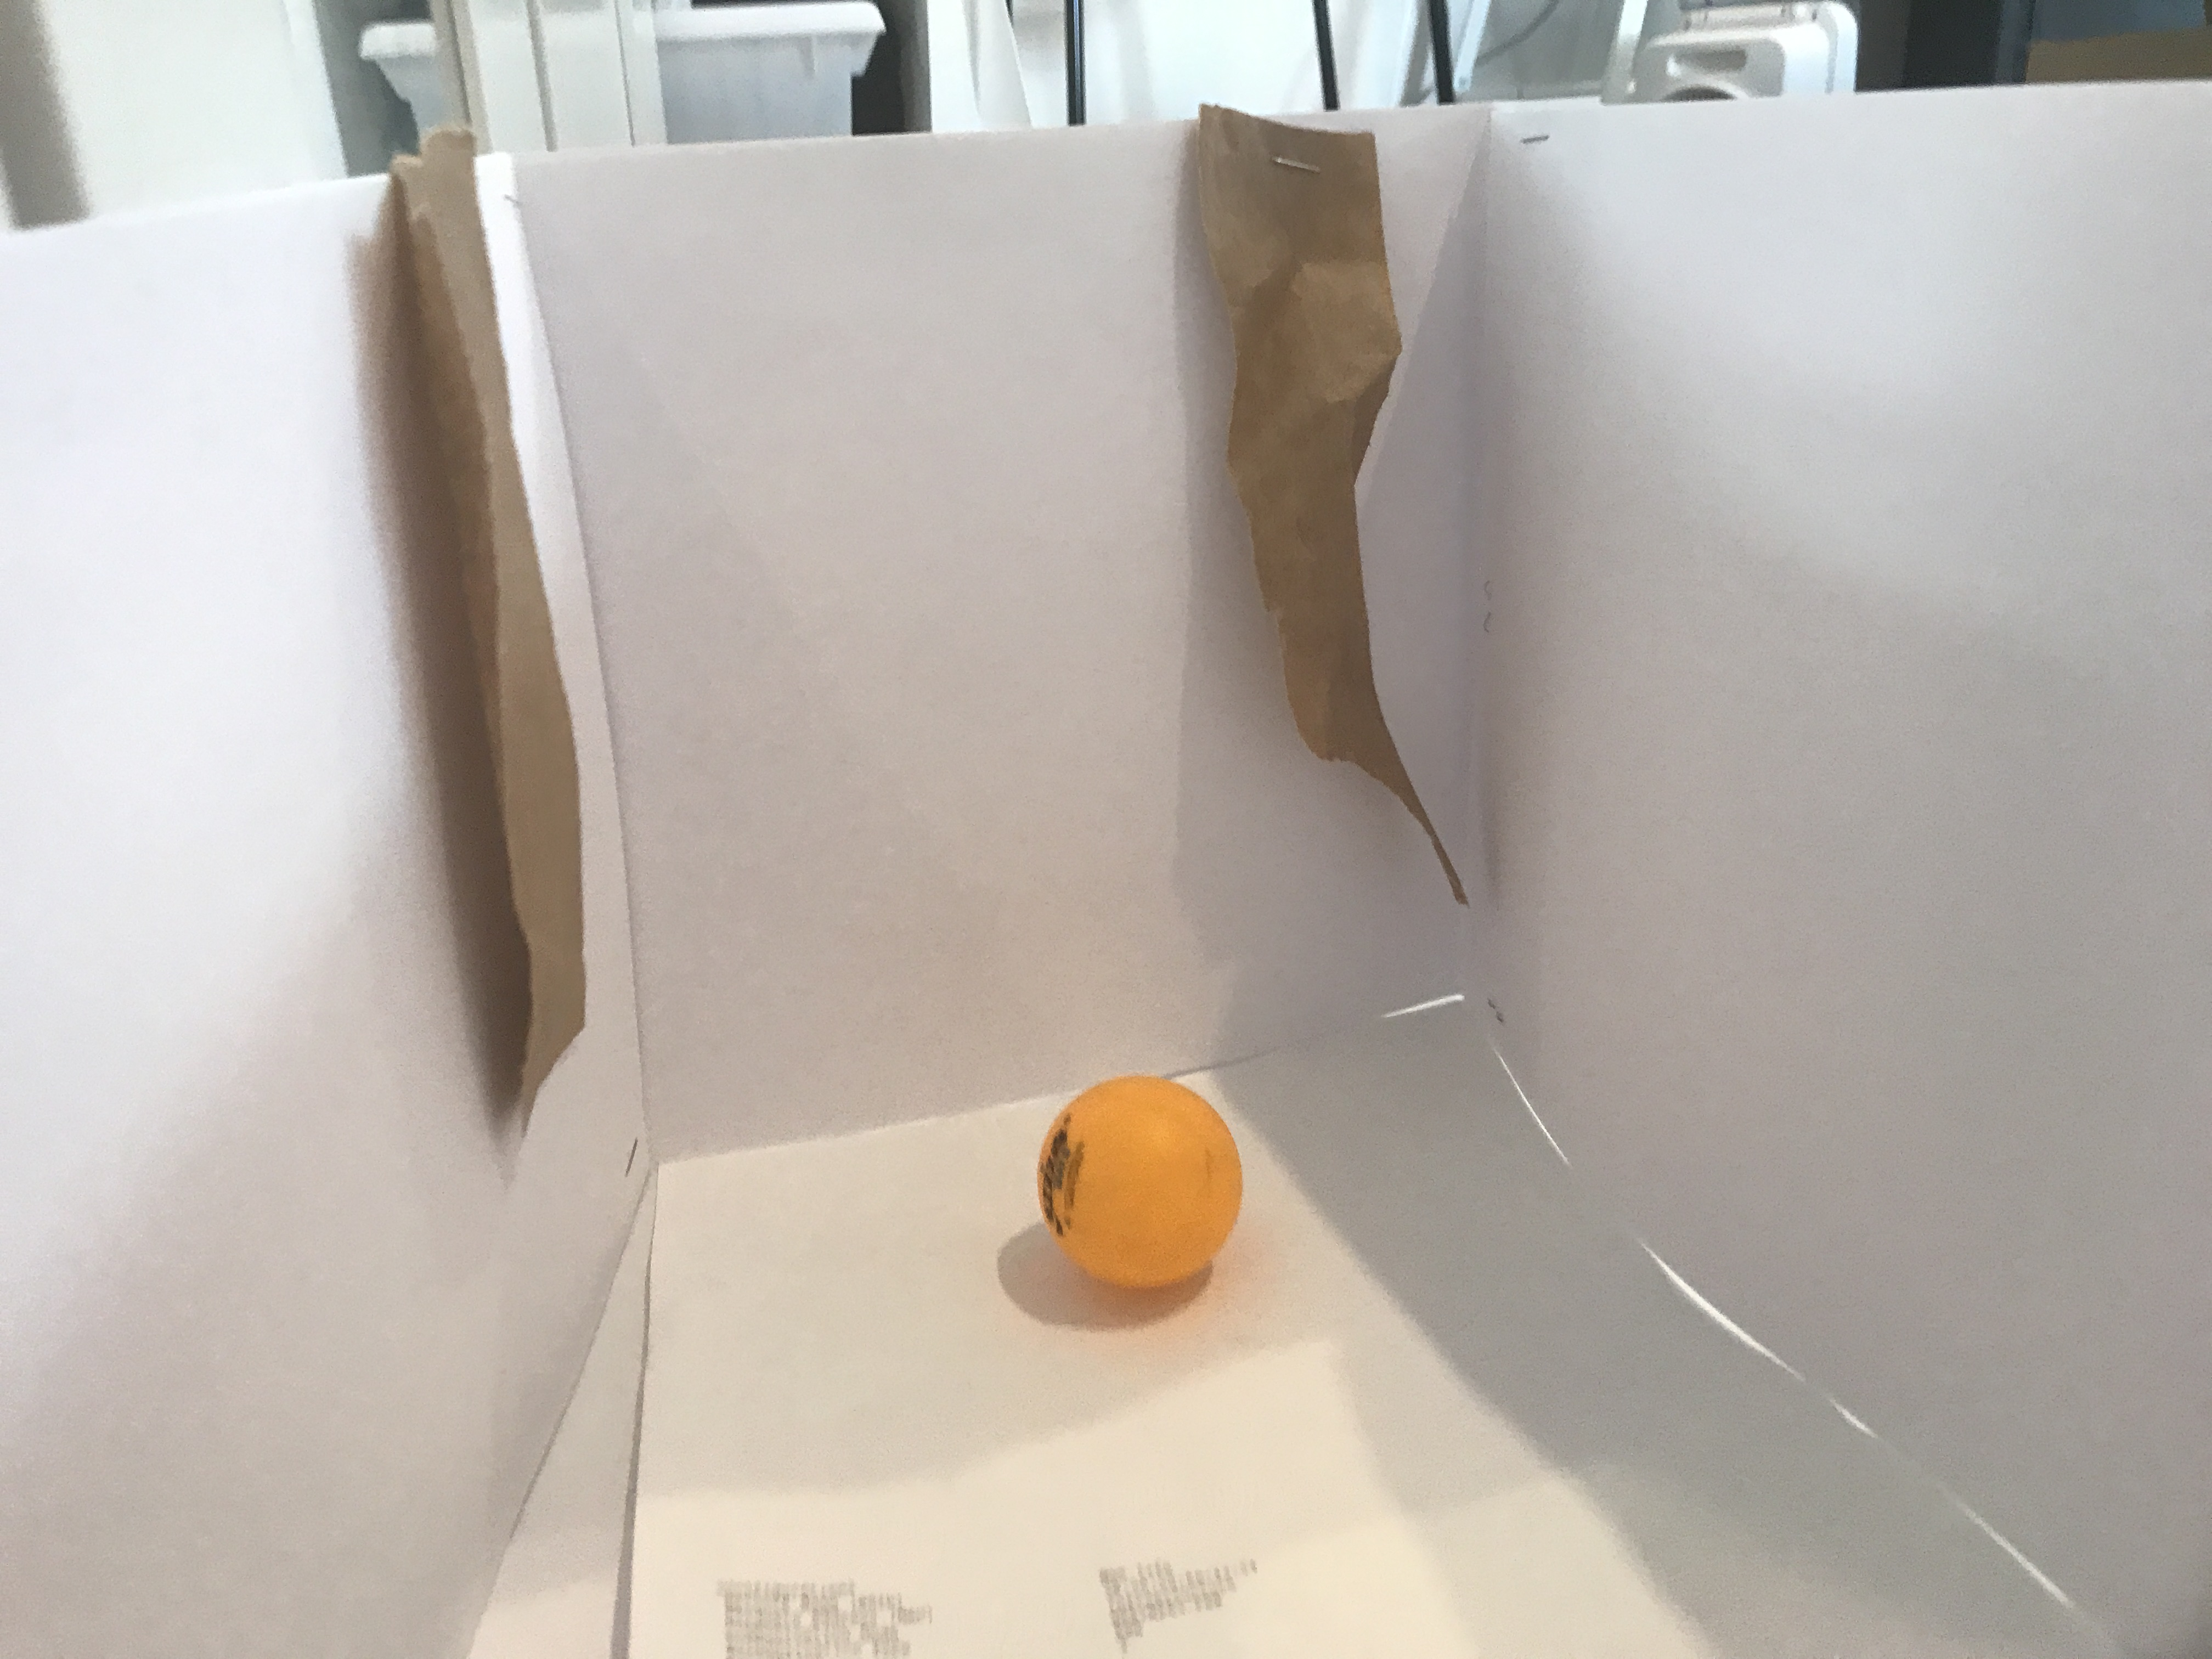pp: (1035, 1072, 1249, 1279)
